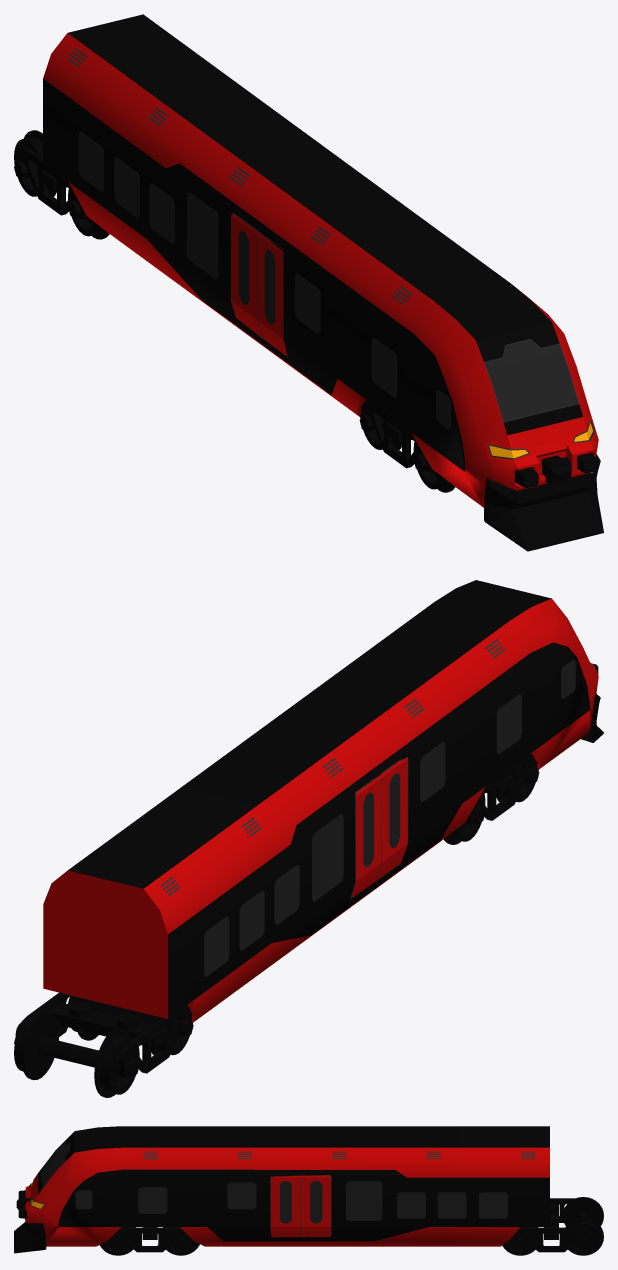
3 renders of one model, top to bottom at view 1: azimuth 30°, elevation 25°; view 2: azimuth 150°, elevation 25°; view 3: azimuth 270°, elevation 25°, orthographic. The views are drawn at different scales.
Parts seen in each view (by area): view 1: Box009, Line004, Line005, Box012; view 2: Box009, Line004, Circle015, Circle014, Rectangle004, Line005, NGon009, NGon008; view 3: Box009, Line004, Circle015, Line005, Circle014, Circle020, Circle016, Circle018, Circle021, Circle017, Circle019, Rectangle004.
Boxes of the visible parts, box(x1,y1,x2,y2) form: Box009: box(43, 14, 603, 551); Line004: box(15, 146, 87, 219); Line005: box(361, 400, 432, 472); Box012: box(541, 455, 571, 484); Box009: box(43, 580, 603, 1022); Line004: box(15, 992, 192, 1077); Circle015: box(21, 1010, 129, 1097); Circle014: box(14, 1013, 139, 1094); Rectangle004: box(50, 1003, 167, 1048); Line005: box(465, 753, 537, 824); NGon009: box(14, 1037, 139, 1076); NGon008: box(68, 996, 193, 1037); Box009: box(14, 1126, 549, 1253); Line004: box(512, 1198, 591, 1252); Circle015: box(562, 1197, 603, 1255); Line005: box(110, 1227, 189, 1252); Circle014: box(566, 1221, 600, 1255); Circle020: box(163, 1227, 197, 1255); Circle016: box(504, 1227, 537, 1255); Circle018: box(101, 1227, 135, 1255); Circle021: box(162, 1227, 199, 1255); Circle017: box(502, 1227, 538, 1255); Circle019: box(99, 1227, 137, 1255); Rectangle004: box(544, 1204, 558, 1239).
Bounding box in the file's own units: 1.77 × 2.52 × 12.44.
